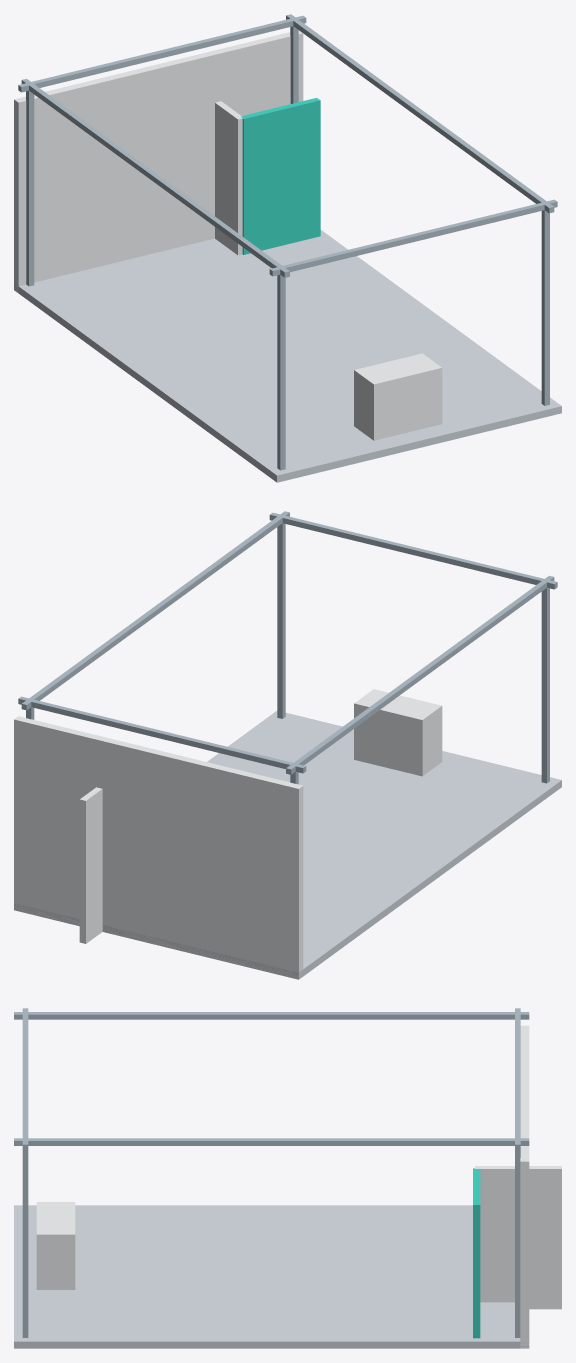
3 views of the same model, one above another, from view 1: azimuth 30°, elevation 25°; view 2: azimuth 150°, elevation 25°; view 3: azimuth 270°, elevation 25° (orthographic). The views are drawn at different scales.
Parts seen in each view (by area): view 1: Exhibition Booth Concept; view 2: Exhibition Booth Concept; view 3: Exhibition Booth Concept.
Boxes of the visible parts, x1,y1,x2,y2 form: Exhibition Booth Concept: [14, 14, 561, 482]; Exhibition Booth Concept: [14, 511, 561, 979]; Exhibition Booth Concept: [14, 1008, 561, 1348].
Size of the model in its own units: 5 by 3.49 by 8.51.
